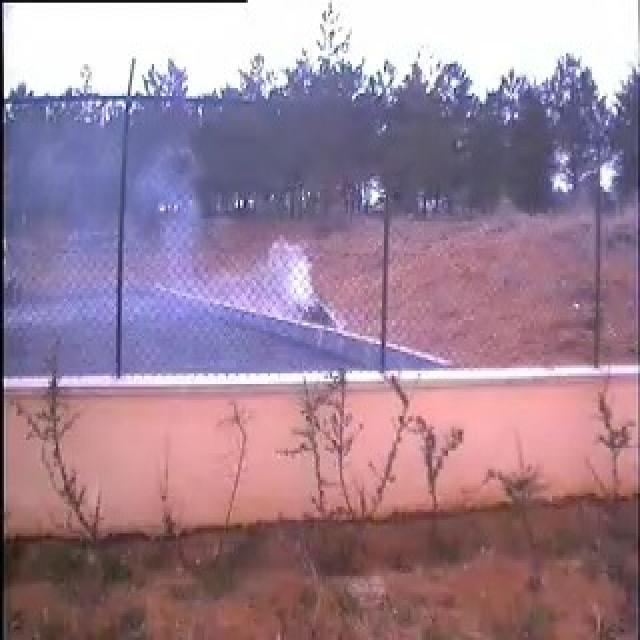smoke: (121, 122, 322, 370)
